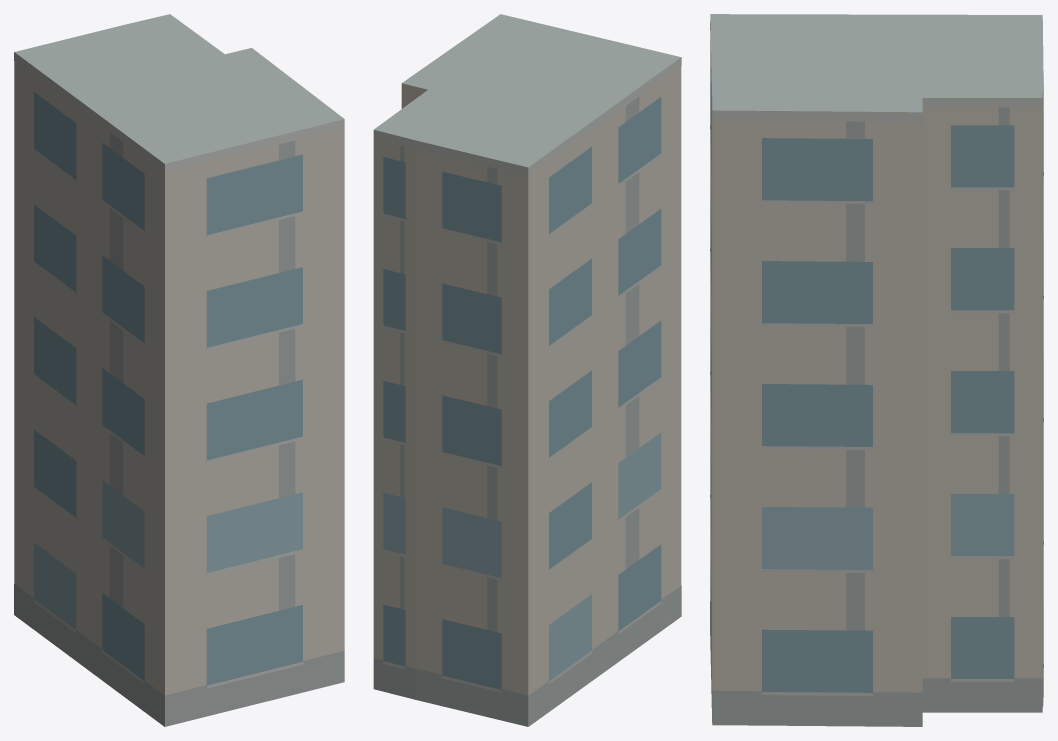
File: survey-upis-32879922.glb
The picture shows the model from 3 angles, left to right: view 1: azimuth 30°, elevation 25°; view 2: azimuth 150°, elevation 25°; view 3: azimuth 270°, elevation 25°; orthographic projection. The views are drawn at different scales.
Visible parts, largest first — view 1: survey-upis-32879922.tmp; view 2: survey-upis-32879922.tmp; view 3: survey-upis-32879922.tmp.
Part boxes in pixels (bbox=[...]): survey-upis-32879922.tmp: bbox=[14, 14, 344, 726]; survey-upis-32879922.tmp: bbox=[373, 14, 681, 726]; survey-upis-32879922.tmp: bbox=[710, 14, 1043, 726].
Bounding box in the file's own units: 5.24 × 15.25 × 7.51.
